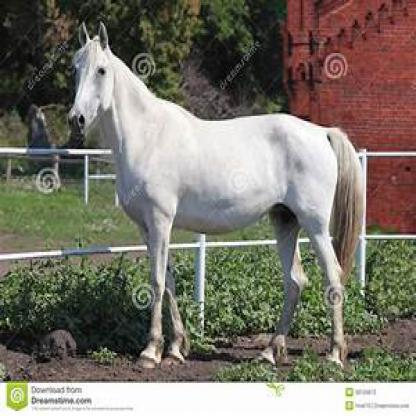horse: (68, 18, 367, 368)
